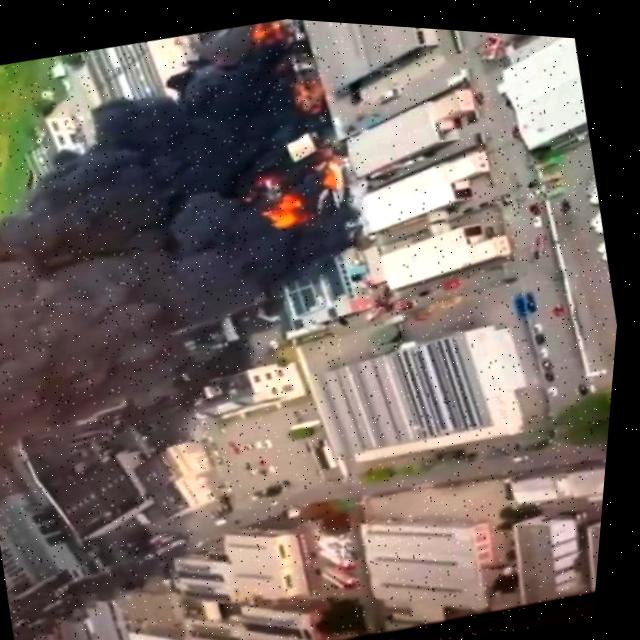Smoke: (0, 55, 319, 510)
